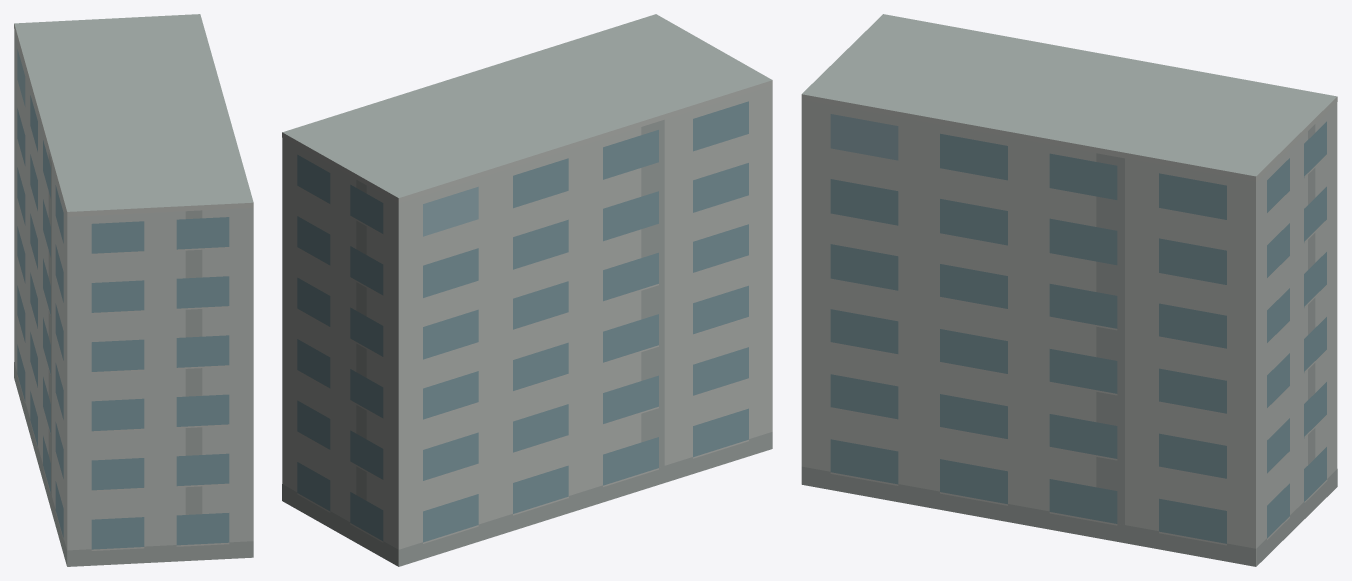
Rendered from survey-upis-32566253.glb.
3 views of the same model, side by side, from view 1: azimuth 30°, elevation 25°; view 2: azimuth 150°, elevation 25°; view 3: azimuth 270°, elevation 25° (orthographic). The views are drawn at different scales.
Visible parts, largest first — view 1: survey-upis-32566253.tmp; view 2: survey-upis-32566253.tmp; view 3: survey-upis-32566253.tmp.
Part boxes in pixels (x1,y1,x2,y2): survey-upis-32566253.tmp: [14, 14, 253, 566]; survey-upis-32566253.tmp: [282, 14, 772, 566]; survey-upis-32566253.tmp: [801, 14, 1337, 566].
Bounding box in the file's own units: 14.96 × 16.75 × 20.85.
